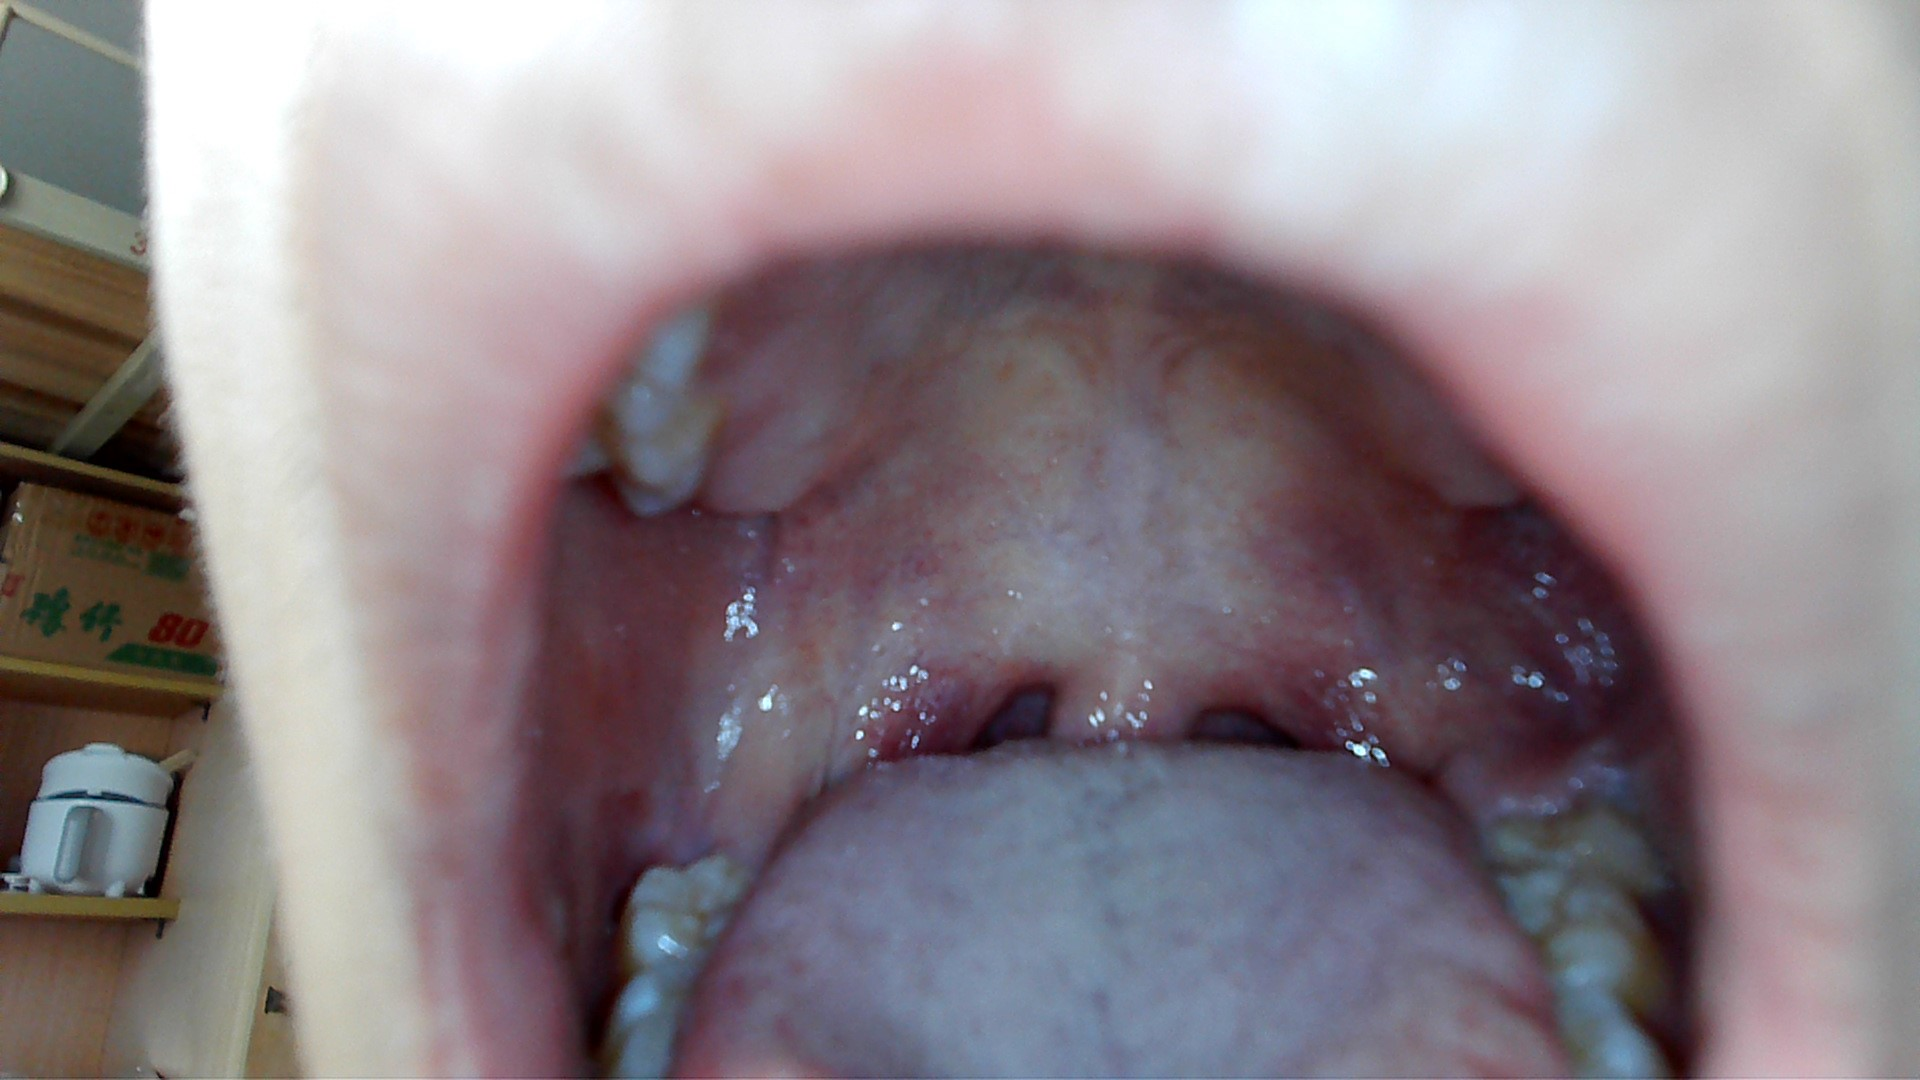throat: (1242, 655, 1342, 752), (922, 647, 1010, 748)
